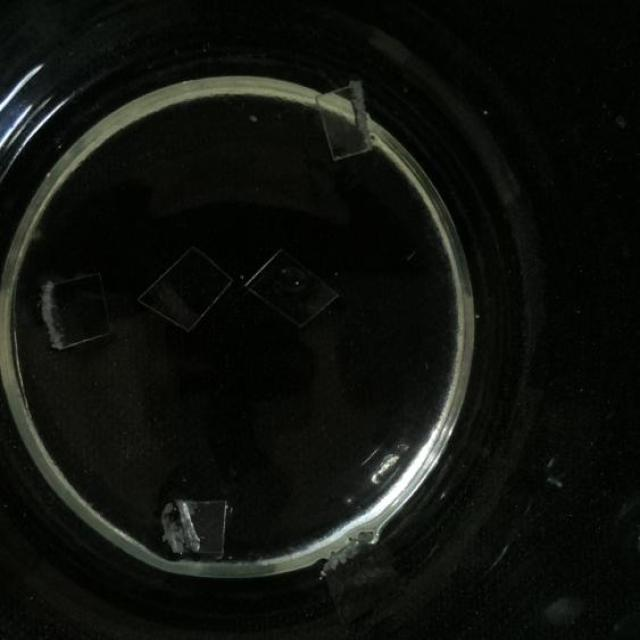fiber: (248, 223, 342, 336), (139, 233, 227, 339), (28, 263, 120, 360), (148, 482, 230, 572), (314, 72, 384, 164)
